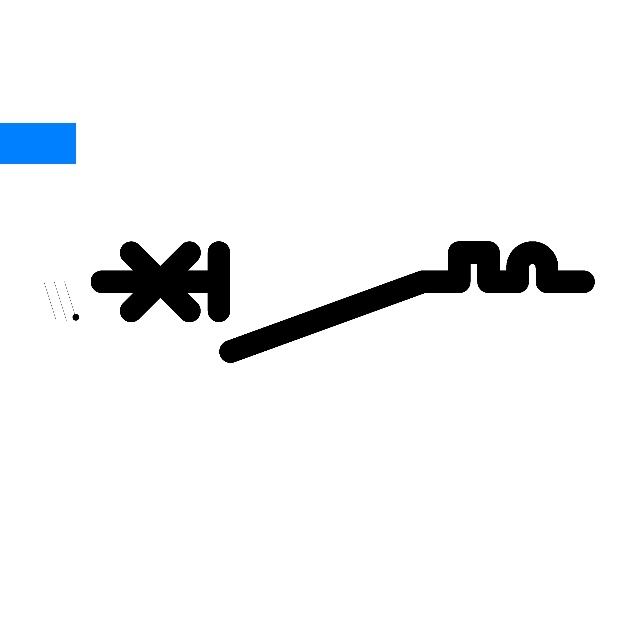interruptor_termomagnetico: (89, 240, 595, 364)
